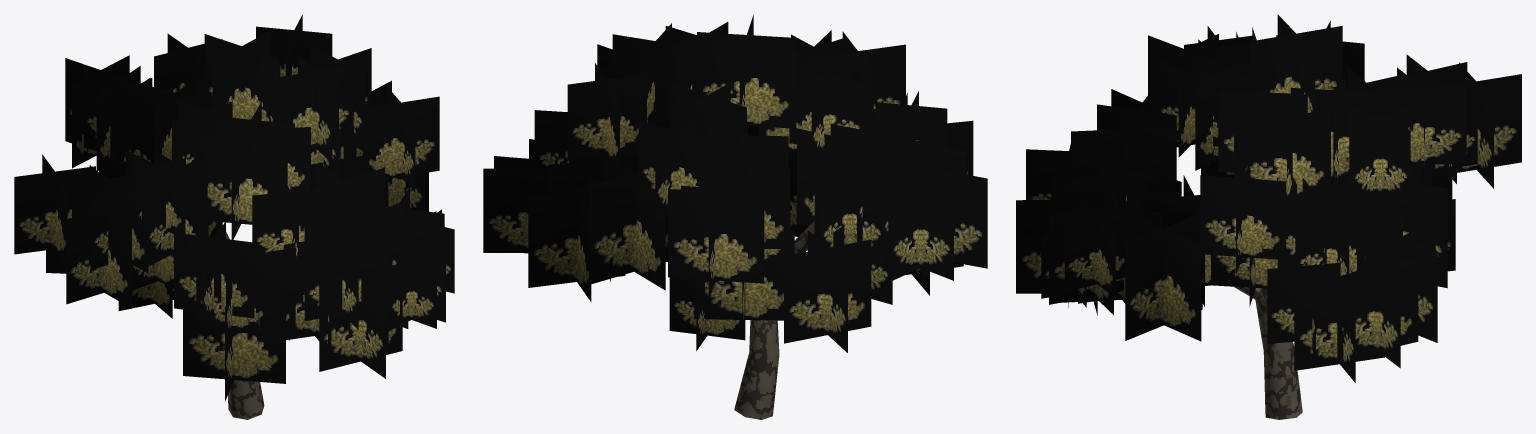
Rendered from oak1_dry_lod0.fbx.
The picture shows the model from 3 angles, left to right: view 1: azimuth 30°, elevation 25°; view 2: azimuth 150°, elevation 25°; view 3: azimuth 270°, elevation 25°; orthographic projection. The views are drawn at different scales.
Visible parts, largest first — view 1: oak1_dry_lod0; view 2: oak1_dry_lod0; view 3: oak1_dry_lod0.
Part boxes in pixels (left/top/right/bottom): oak1_dry_lod0: left=14, top=14, right=454, bottom=419; oak1_dry_lod0: left=483, top=15, right=987, bottom=419; oak1_dry_lod0: left=1016, top=14, right=1521, bottom=419.
Size of the model in its own units: 11.11 by 9.09 by 10.87.
2 materials, 2 textured.
